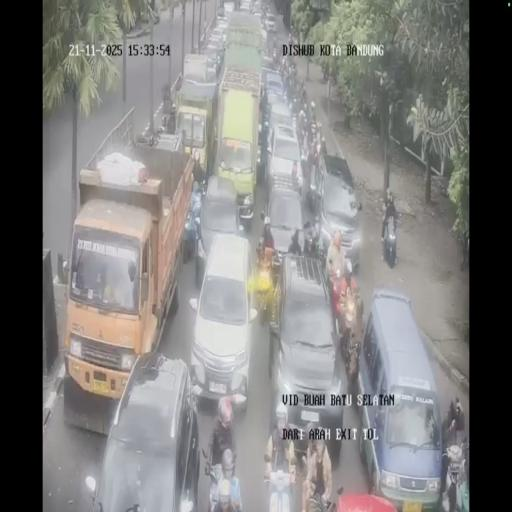3: (63, 142, 193, 408), (173, 60, 219, 184), (222, 8, 264, 79)
car: (355, 287, 440, 502), (268, 255, 343, 455), (195, 173, 247, 285), (316, 158, 362, 270), (263, 185, 305, 267), (266, 120, 303, 198), (260, 66, 284, 110), (204, 30, 226, 71), (259, 25, 269, 59), (264, 12, 276, 30), (215, 8, 229, 23), (250, 0, 262, 14)
truck: (205, 456, 243, 512), (440, 440, 468, 511), (264, 459, 296, 512), (304, 220, 324, 260), (382, 214, 397, 267), (289, 84, 302, 116), (300, 141, 310, 180), (268, 35, 276, 60), (319, 132, 327, 156)
